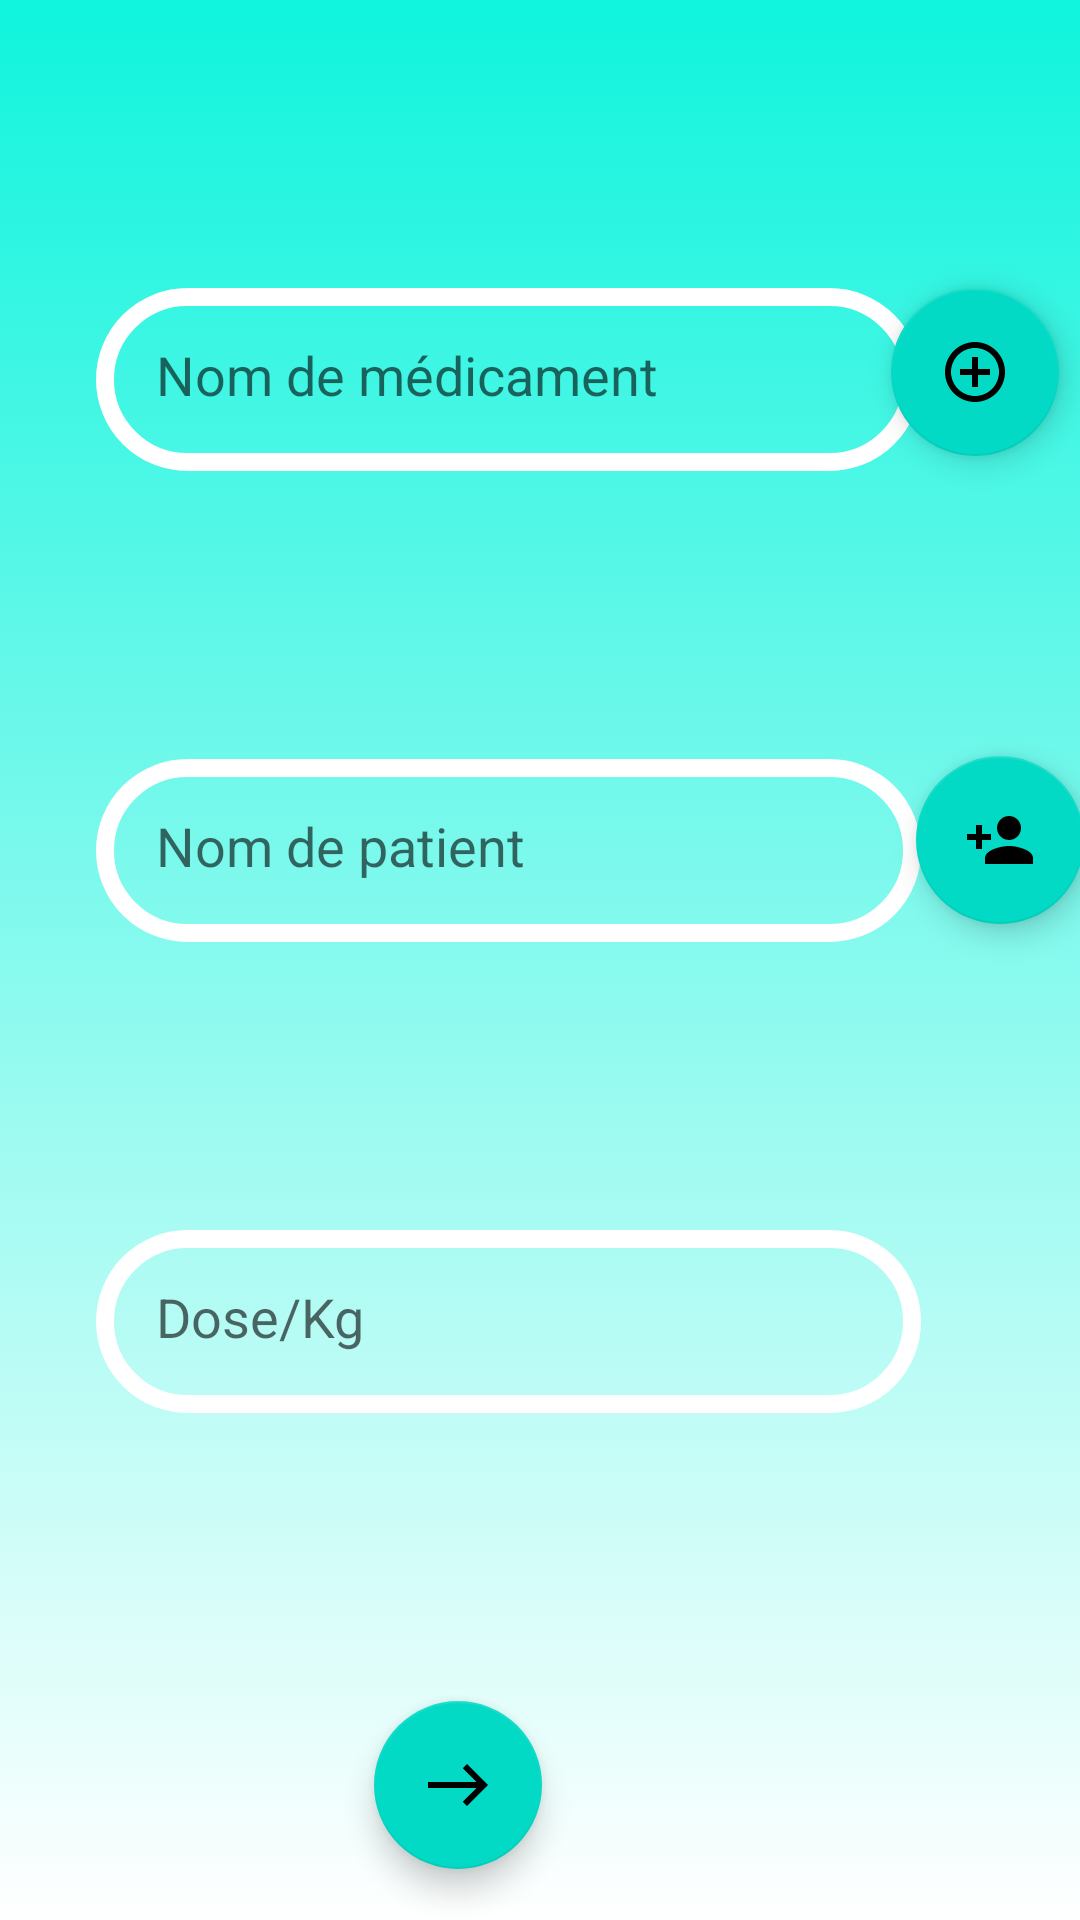

Where to tap for icons on this 1080w x 1920h app screen, as point (x, y):
add med: point (975, 373)
continuer: point (458, 1785)
